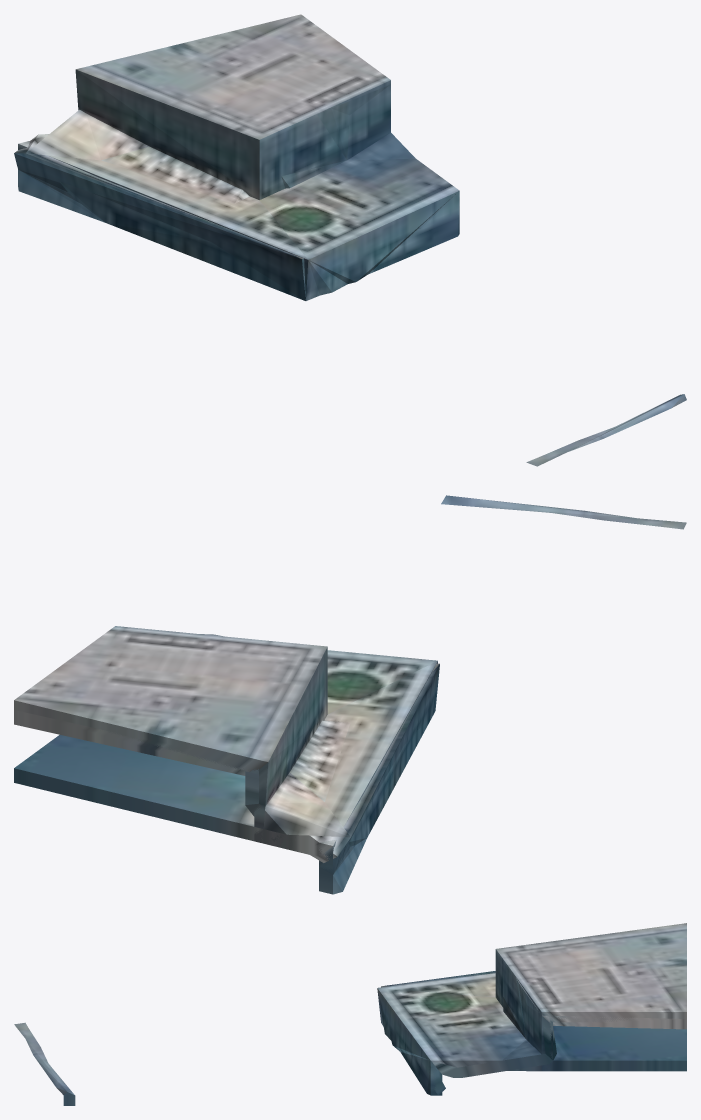
The model's file is chunk_-2_3.glb.
3 views of the same model, one above another, from view 1: azimuth 30°, elevation 25°; view 2: azimuth 150°, elevation 25°; view 3: azimuth 270°, elevation 25° (orthographic). The views are drawn at different scales.
Visible parts, largest first — view 1: hero-chunk; view 2: hero-chunk; view 3: hero-chunk.
Boxes of the visible parts, x1,y1,x2,y2 form: hero-chunk: [14, 14, 686, 466]; hero-chunk: [14, 495, 686, 894]; hero-chunk: [14, 923, 686, 1105].
Bounding box in the file's own units: 21.55 × 8.34 × 54.16.
1 material, 1 textured.
